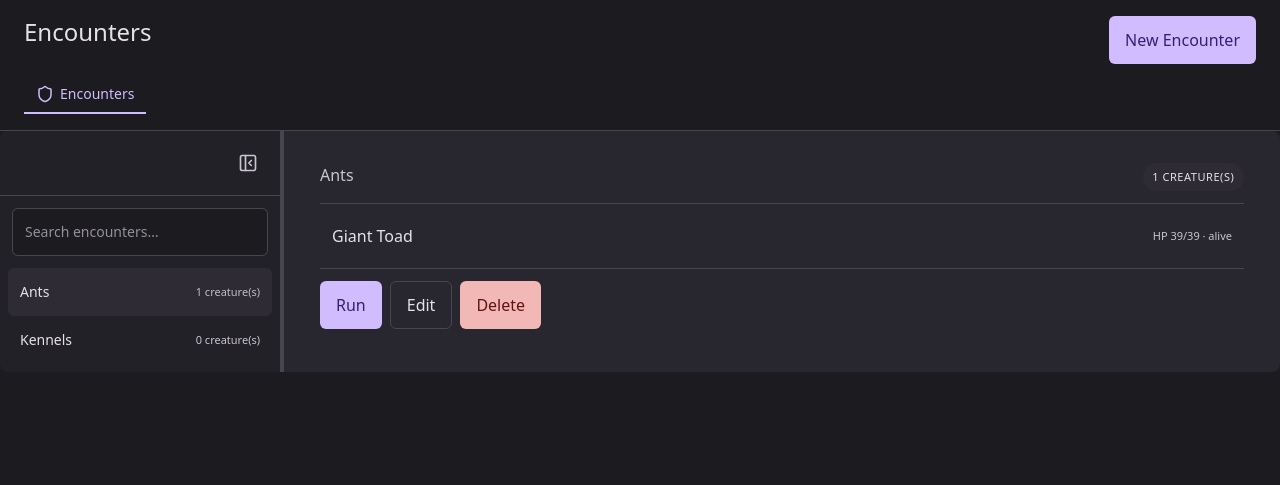
it: EncounterBrowserPage › filtering to no matches shows filtered-empty state
Expected: the heading "Ants" is shown, [320,163,354,187]
Type "zzz-no-match" into the search field.
click(140, 232); type("zzz-no-match")  # box [12,208,268,256]
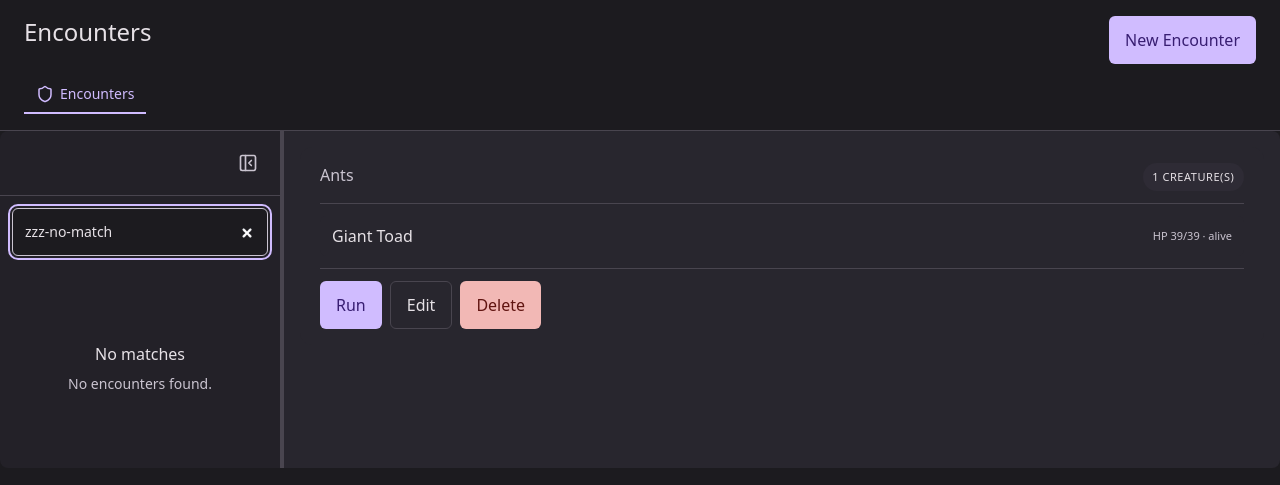
Expected: the text "No encounters found." is shown, [68,374,212,394]
